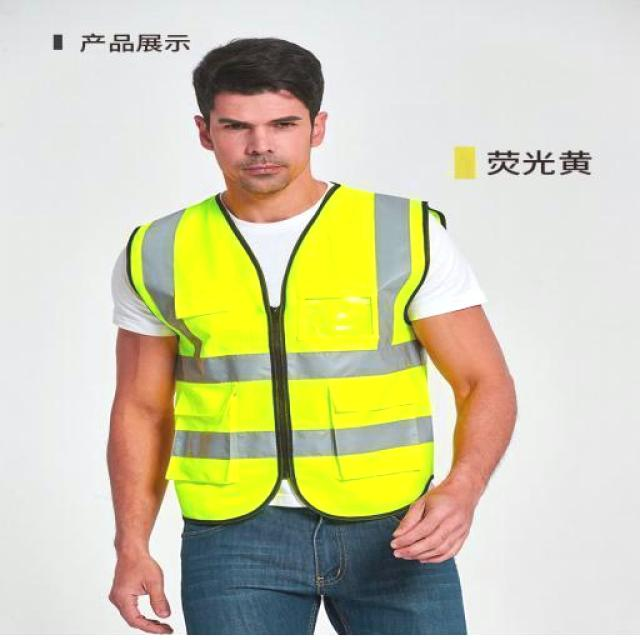face_nomask: (210, 108, 310, 186)
hand_noglove: (382, 485, 473, 570), (99, 554, 182, 640)
head_nohelmet: (190, 32, 332, 106)
person: (109, 30, 522, 640)
vest: (131, 175, 457, 520)
